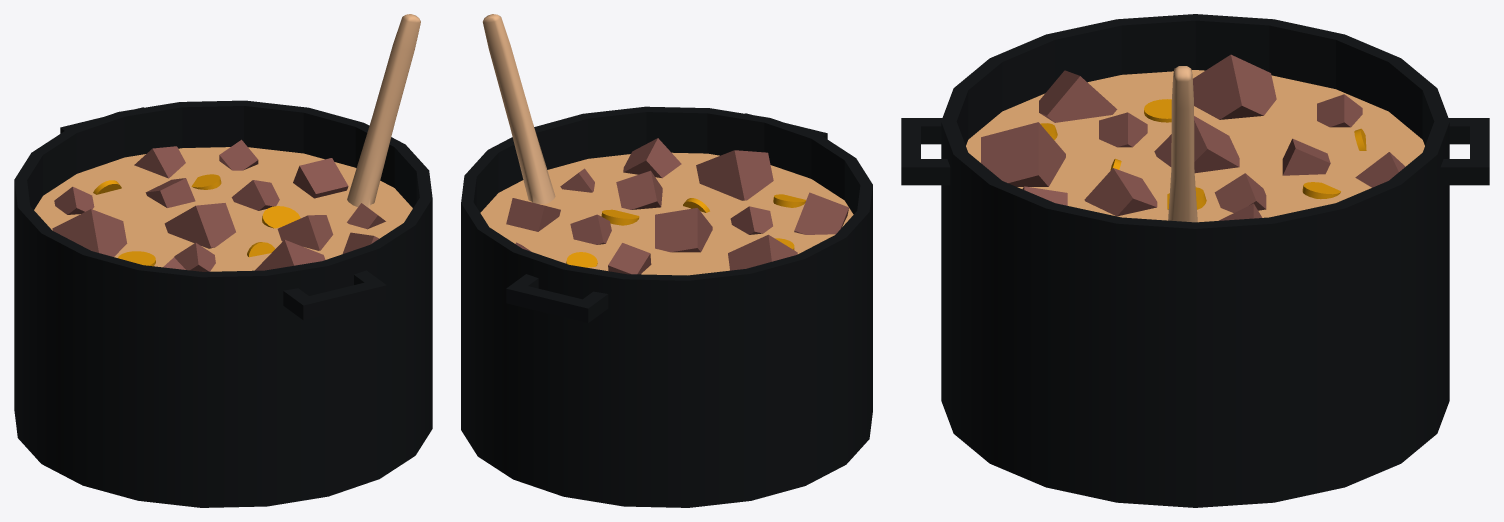
The model's file is Pot.fbx.
3 views of the same model, side by side, from view 1: azimuth 30°, elevation 25°; view 2: azimuth 150°, elevation 25°; view 3: azimuth 270°, elevation 25° (orthographic). The views are drawn at different scales.
Visible parts, largest first — view 1: pCube17, pCylinder2, pCube16, pCube14, pCube9, pCube6, pCube4, pCube2, pCube15, pCube5, pCube8, pCube3 (+4 smaller); view 2: pCube17, pCylinder2, pCube16, pCube2, pCube14, pCube10, pCube9, pCube4, pCube11, pCube6, pCube8, pCube5 (+2 smaller); view 3: pCube17, pCylinder2, pCube9, pCube2, pCube16, pCube10, pCube4, pCube14, pCube5, pCube8, pCube3, pCube13 (+1 smaller).
Boxes of the visible parts, x1=… form: pCube17: x1=14, y1=100, x2=432, y2=507; pCylinder2: x1=34, y1=147, x2=412, y2=271; pCube16: x1=347, y1=14, x2=420, y2=207; pCube14: x1=164, y1=203, x2=235, y2=248; pCube9: x1=52, y1=209, x2=127, y2=256; pCube6: x1=293, y1=158, x2=348, y2=198; pCube4: x1=277, y1=215, x2=333, y2=250; pCube2: x1=255, y1=239, x2=325, y2=270; pCube15: x1=134, y1=146, x2=185, y2=178; pCube5: x1=231, y1=180, x2=279, y2=210; pCube8: x1=145, y1=178, x2=195, y2=207; pCube3: x1=174, y1=242, x2=215, y2=271; pCube17: x1=461, y1=106, x2=872, y2=507; pCylinder2: x1=480, y1=152, x2=853, y2=275; pCube16: x1=482, y1=14, x2=555, y2=204; pCube2: x1=696, y1=150, x2=773, y2=200; pCube14: x1=655, y1=208, x2=712, y2=252; pCube10: x1=794, y1=192, x2=848, y2=234; pCube9: x1=728, y1=234, x2=797, y2=270; pCube4: x1=616, y1=170, x2=662, y2=209; pCube11: x1=623, y1=138, x2=681, y2=178; pCube6: x1=506, y1=198, x2=560, y2=231; pCube8: x1=608, y1=243, x2=651, y2=274; pCube5: x1=570, y1=214, x2=611, y2=244; pCube17: x1=901, y1=14, x2=1489, y2=507; pCylinder2: x1=966, y1=70, x2=1424, y2=222; pCube9: x1=1193, y1=54, x2=1276, y2=119; pCube2: x1=981, y1=122, x2=1065, y2=186; pCube16: x1=1168, y1=66, x2=1197, y2=222; pCube10: x1=1039, y1=70, x2=1117, y2=122; pCube4: x1=1084, y1=168, x2=1157, y2=216; pCube14: x1=1154, y1=116, x2=1239, y2=173; pCube5: x1=1214, y1=173, x2=1266, y2=212; pCube8: x1=1282, y1=138, x2=1330, y2=175; pCube3: x1=1099, y1=112, x2=1147, y2=147; pCube13: x1=1317, y1=94, x2=1362, y2=127.
Size of the model in its own units: 2.05 by 1.91 by 2.31.
